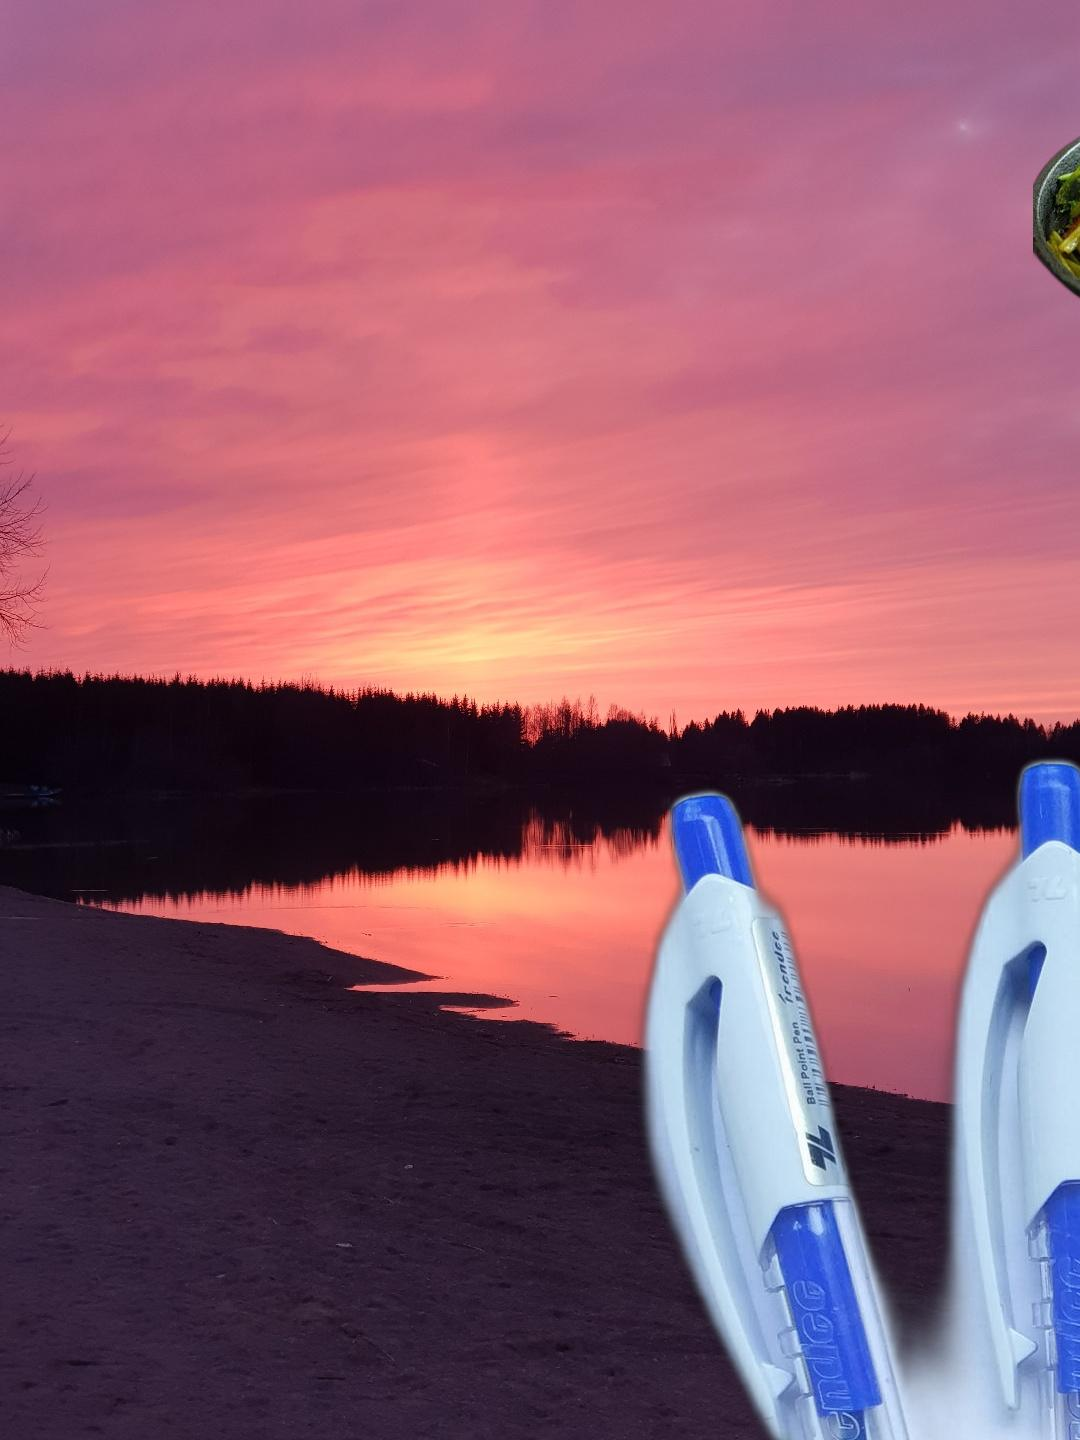biological: (1033, 87, 1080, 330)
penholder: (625, 639, 1080, 1440)
